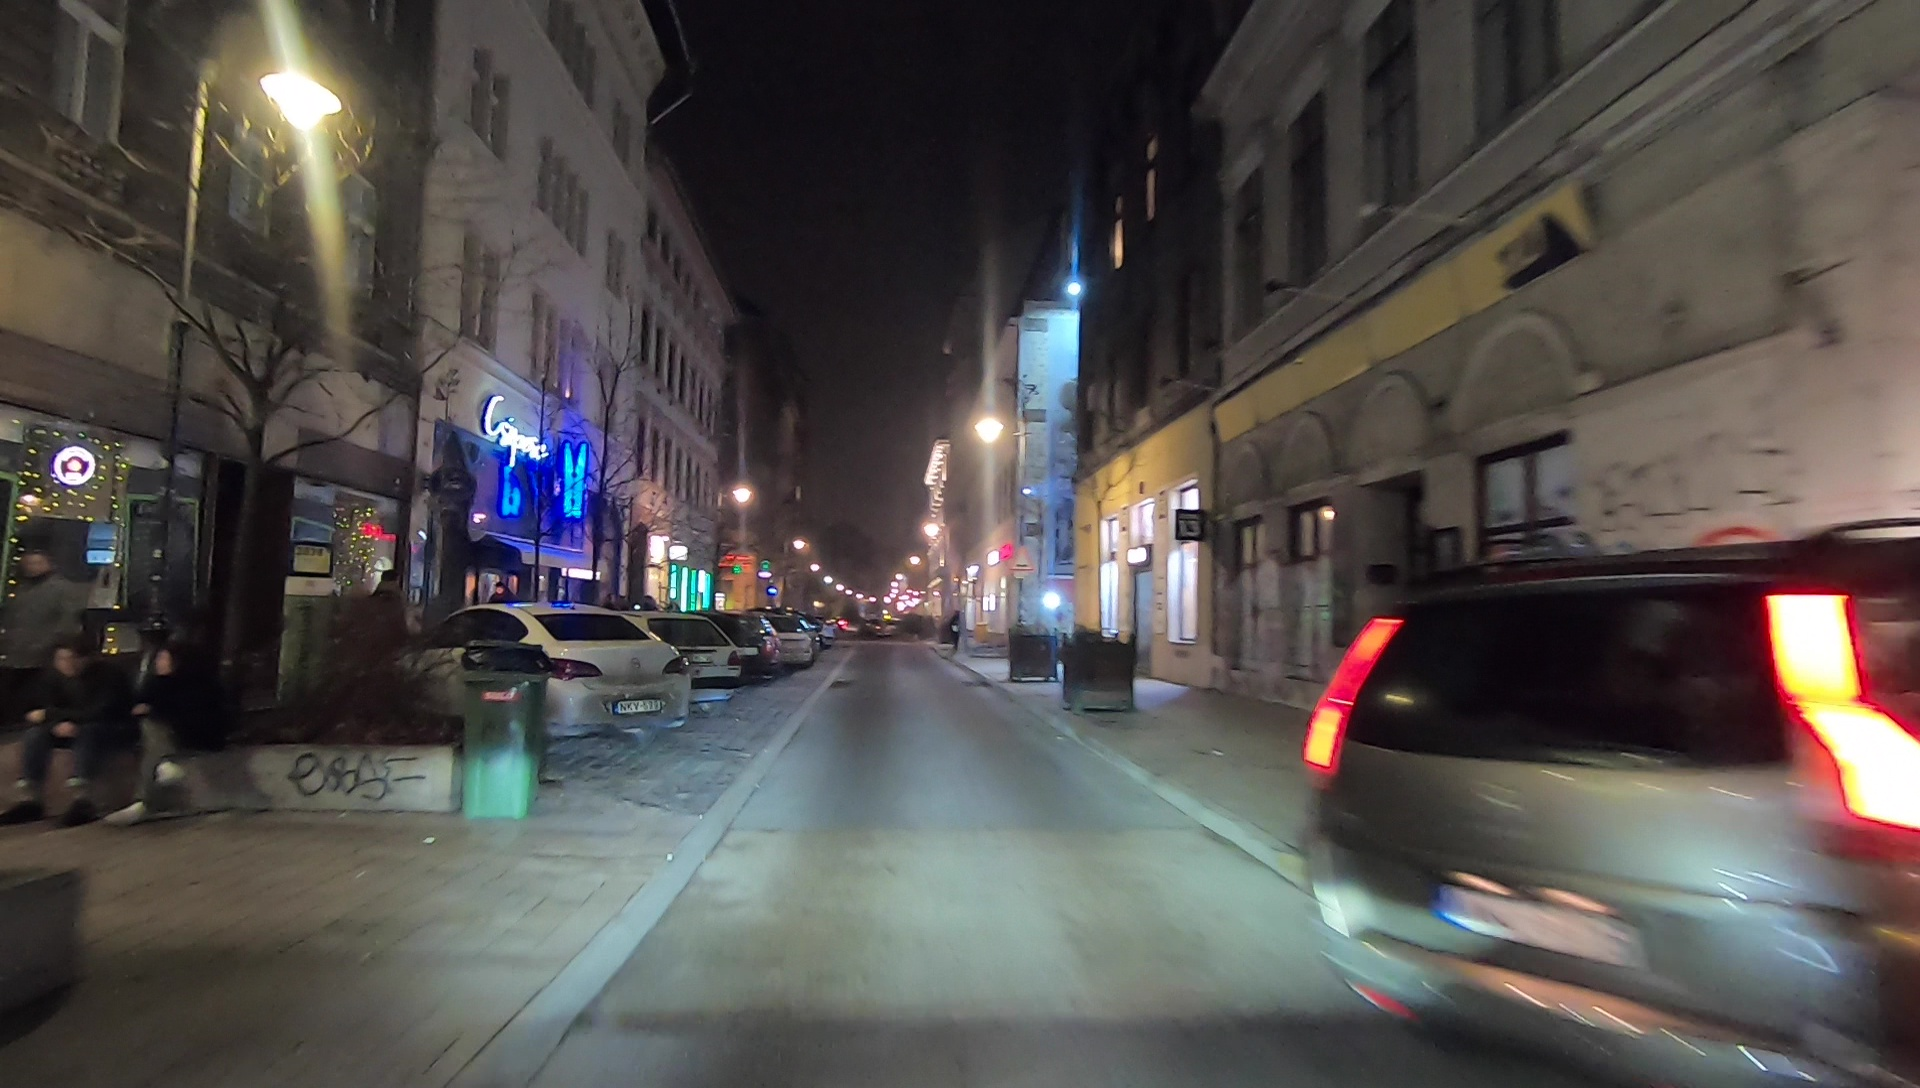person: (12, 554, 86, 760), (25, 647, 97, 826), (128, 643, 195, 828)
